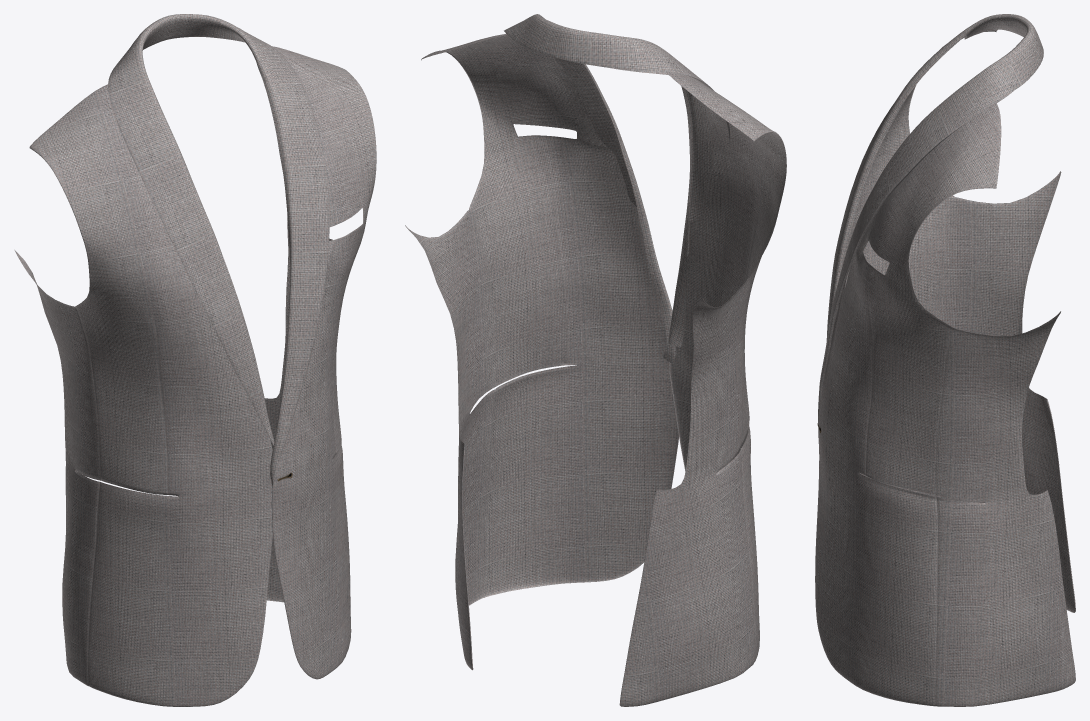
Rendered from shawl_single_button.glb.
3 views of the same model, side by side, from view 1: azimuth 30°, elevation 25°; view 2: azimuth 150°, elevation 25°; view 3: azimuth 270°, elevation 25° (orthographic). The views are drawn at different scales.
Parts seen in each view (by area): view 1: shawl_single_button; view 2: shawl_single_button; view 3: shawl_single_button.
Boxes of the visible parts, <box> form: shawl_single_button: <box>14,14,376,706</box>; shawl_single_button: <box>405,14,786,706</box>; shawl_single_button: <box>815,14,1075,706</box>.
Size of the model in its own units: 0.0585 by 0.108 by 0.0411.
3 materials, 3 textured.
